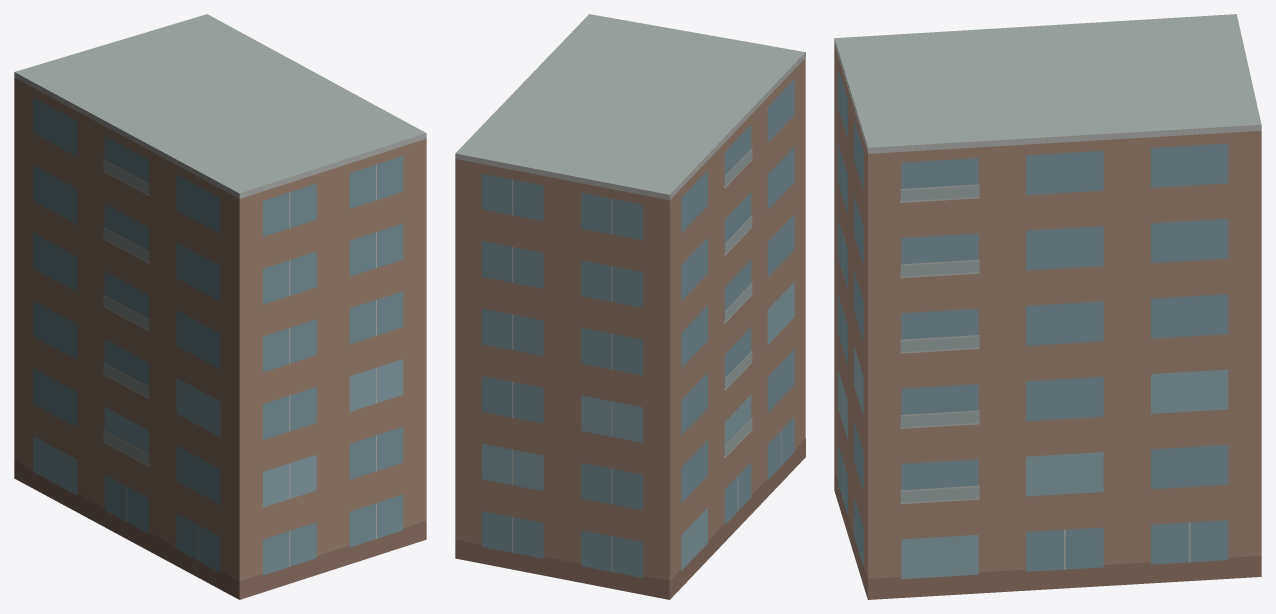
The model's file is survey-upis-32524522.glb.
The picture shows the model from 3 angles, left to right: view 1: azimuth 30°, elevation 25°; view 2: azimuth 150°, elevation 25°; view 3: azimuth 270°, elevation 25°; orthographic projection. The views are drawn at different scales.
Parts seen in each view (by area): view 1: survey-upis-32524522.tmp; view 2: survey-upis-32524522.tmp; view 3: survey-upis-32524522.tmp.
Part boxes in pixels (<box>): survey-upis-32524522.tmp: <box>14,14,426,599</box>; survey-upis-32524522.tmp: <box>455,14,805,599</box>; survey-upis-32524522.tmp: <box>834,14,1261,599</box>.
Bounding box in the file's own units: 11.63 × 18.3 × 15.69.
